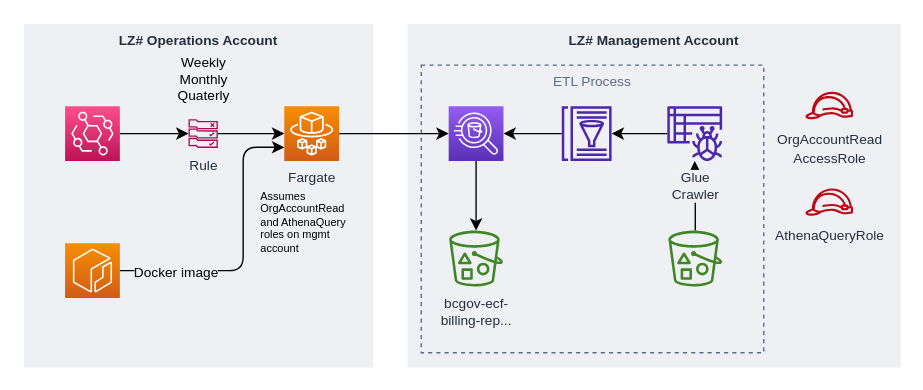
The diagram is 923 pixels wide and 390 high, and some of its shapes have lost their labels. Here are the shapes that lost their labels. From the top down, the centre of each, then its label:
point (92, 133): Event Bridge
point (475, 133): Athena
point (586, 132): Glue Data Catalog
point (92, 270): Elastic Container Repository (ECR)
point (694, 258): pbmmaccel-... ....Cost-and-Usage
